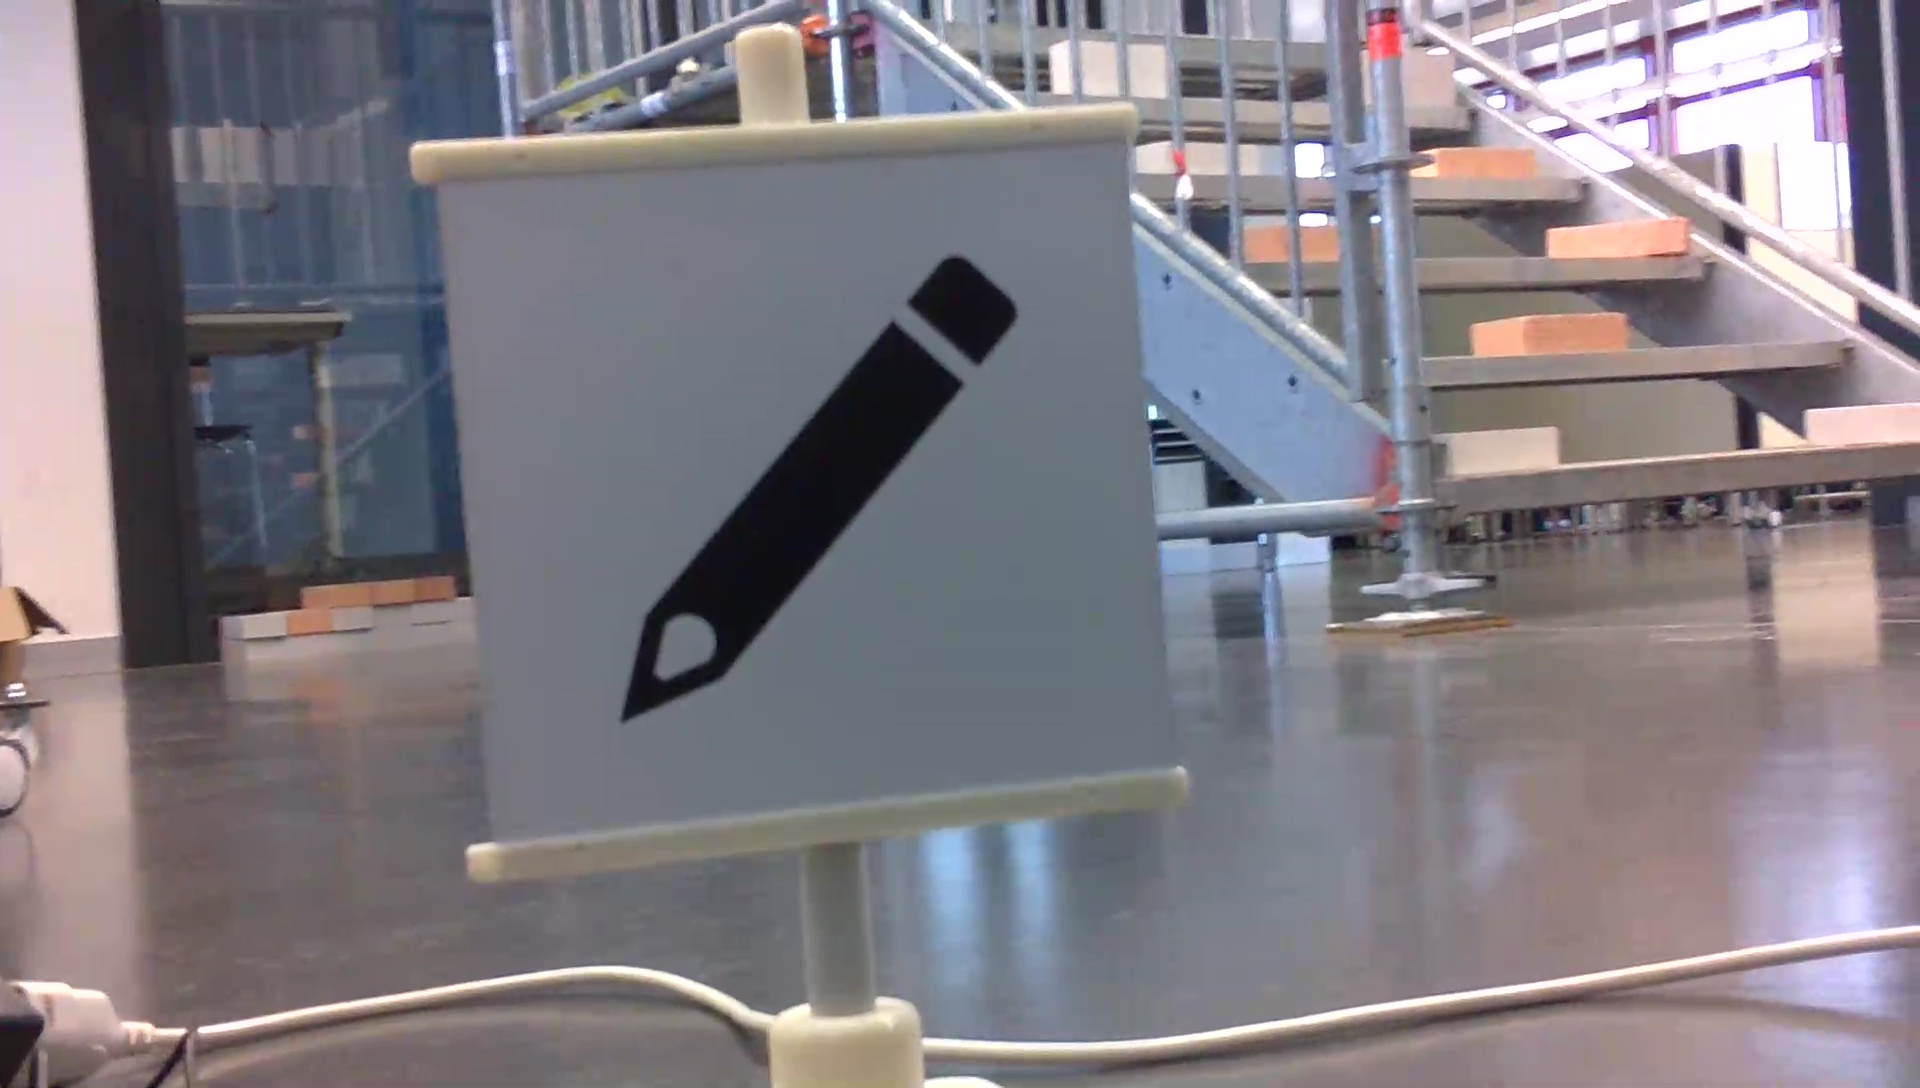brick: (1476, 314, 1622, 349), (1443, 427, 1557, 469), (1807, 401, 1920, 443), (1549, 223, 1691, 255), (1398, 51, 1453, 116), (1429, 148, 1531, 181)
edge: (1448, 444, 1917, 510), (1420, 338, 1858, 385)
pencil: (603, 239, 1031, 735)
stairs: (1323, 3, 1920, 638)
